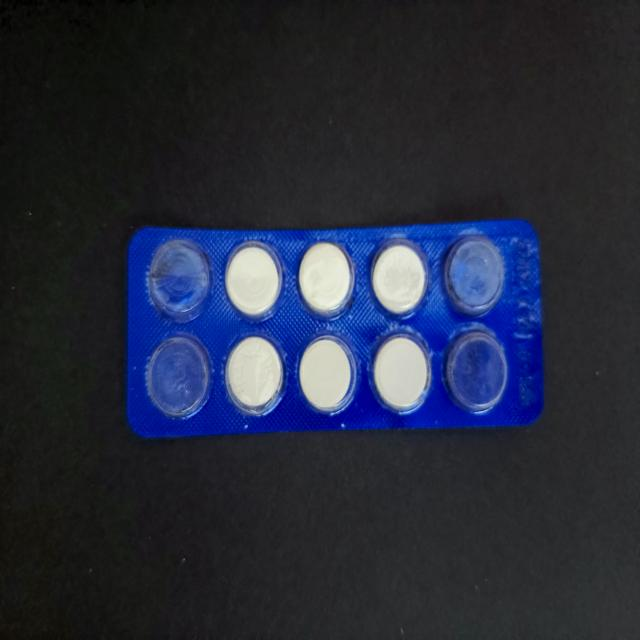defect: (143, 332, 214, 423), (442, 324, 512, 416), (147, 238, 215, 328), (442, 232, 506, 318)
